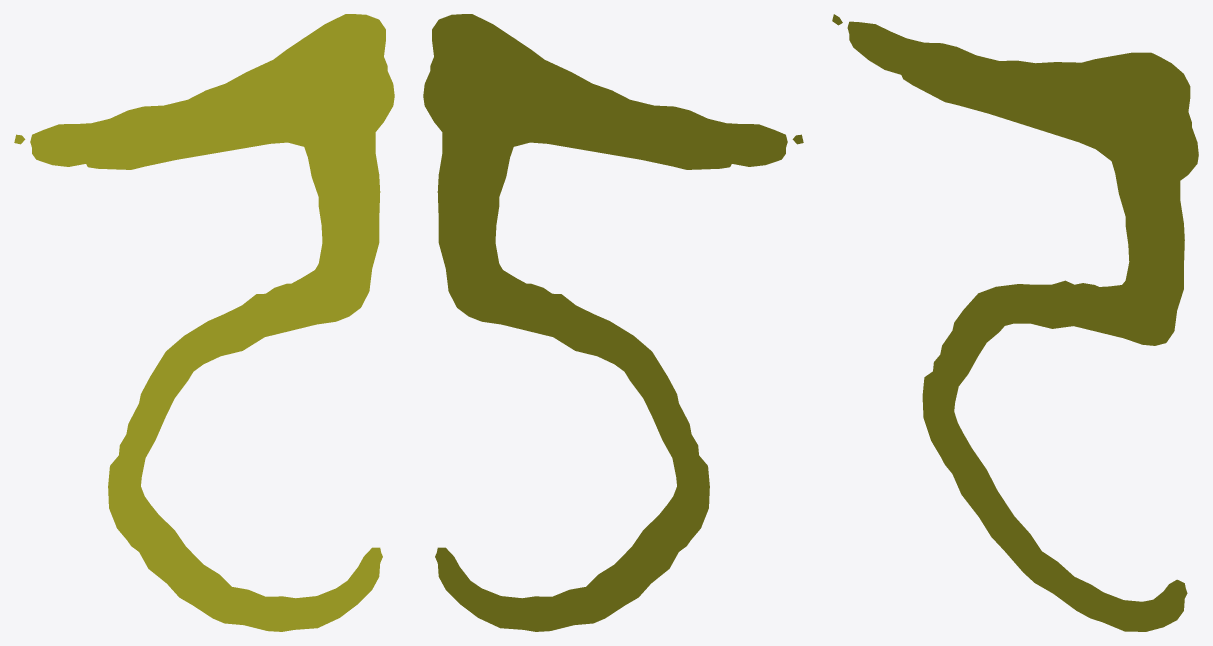
File: five.obj
The picture shows the model from 3 angles, left to right: view 1: azimuth 30°, elevation 25°; view 2: azimuth 150°, elevation 25°; view 3: azimuth 330°, elevation 25°; orthographic projection. The views are drawn at different scales.
Parts seen in each view (by area): view 1: five; view 2: five; view 3: five.
Part boxes in pixels (x1=…): five: x1=14, y1=14, x2=394, y2=631; five: x1=423, y1=14, x2=803, y2=631; five: x1=832, y1=14, x2=1198, y2=631.
Size of the model in its own units: 0.3432 by 0.5235 by 0.
